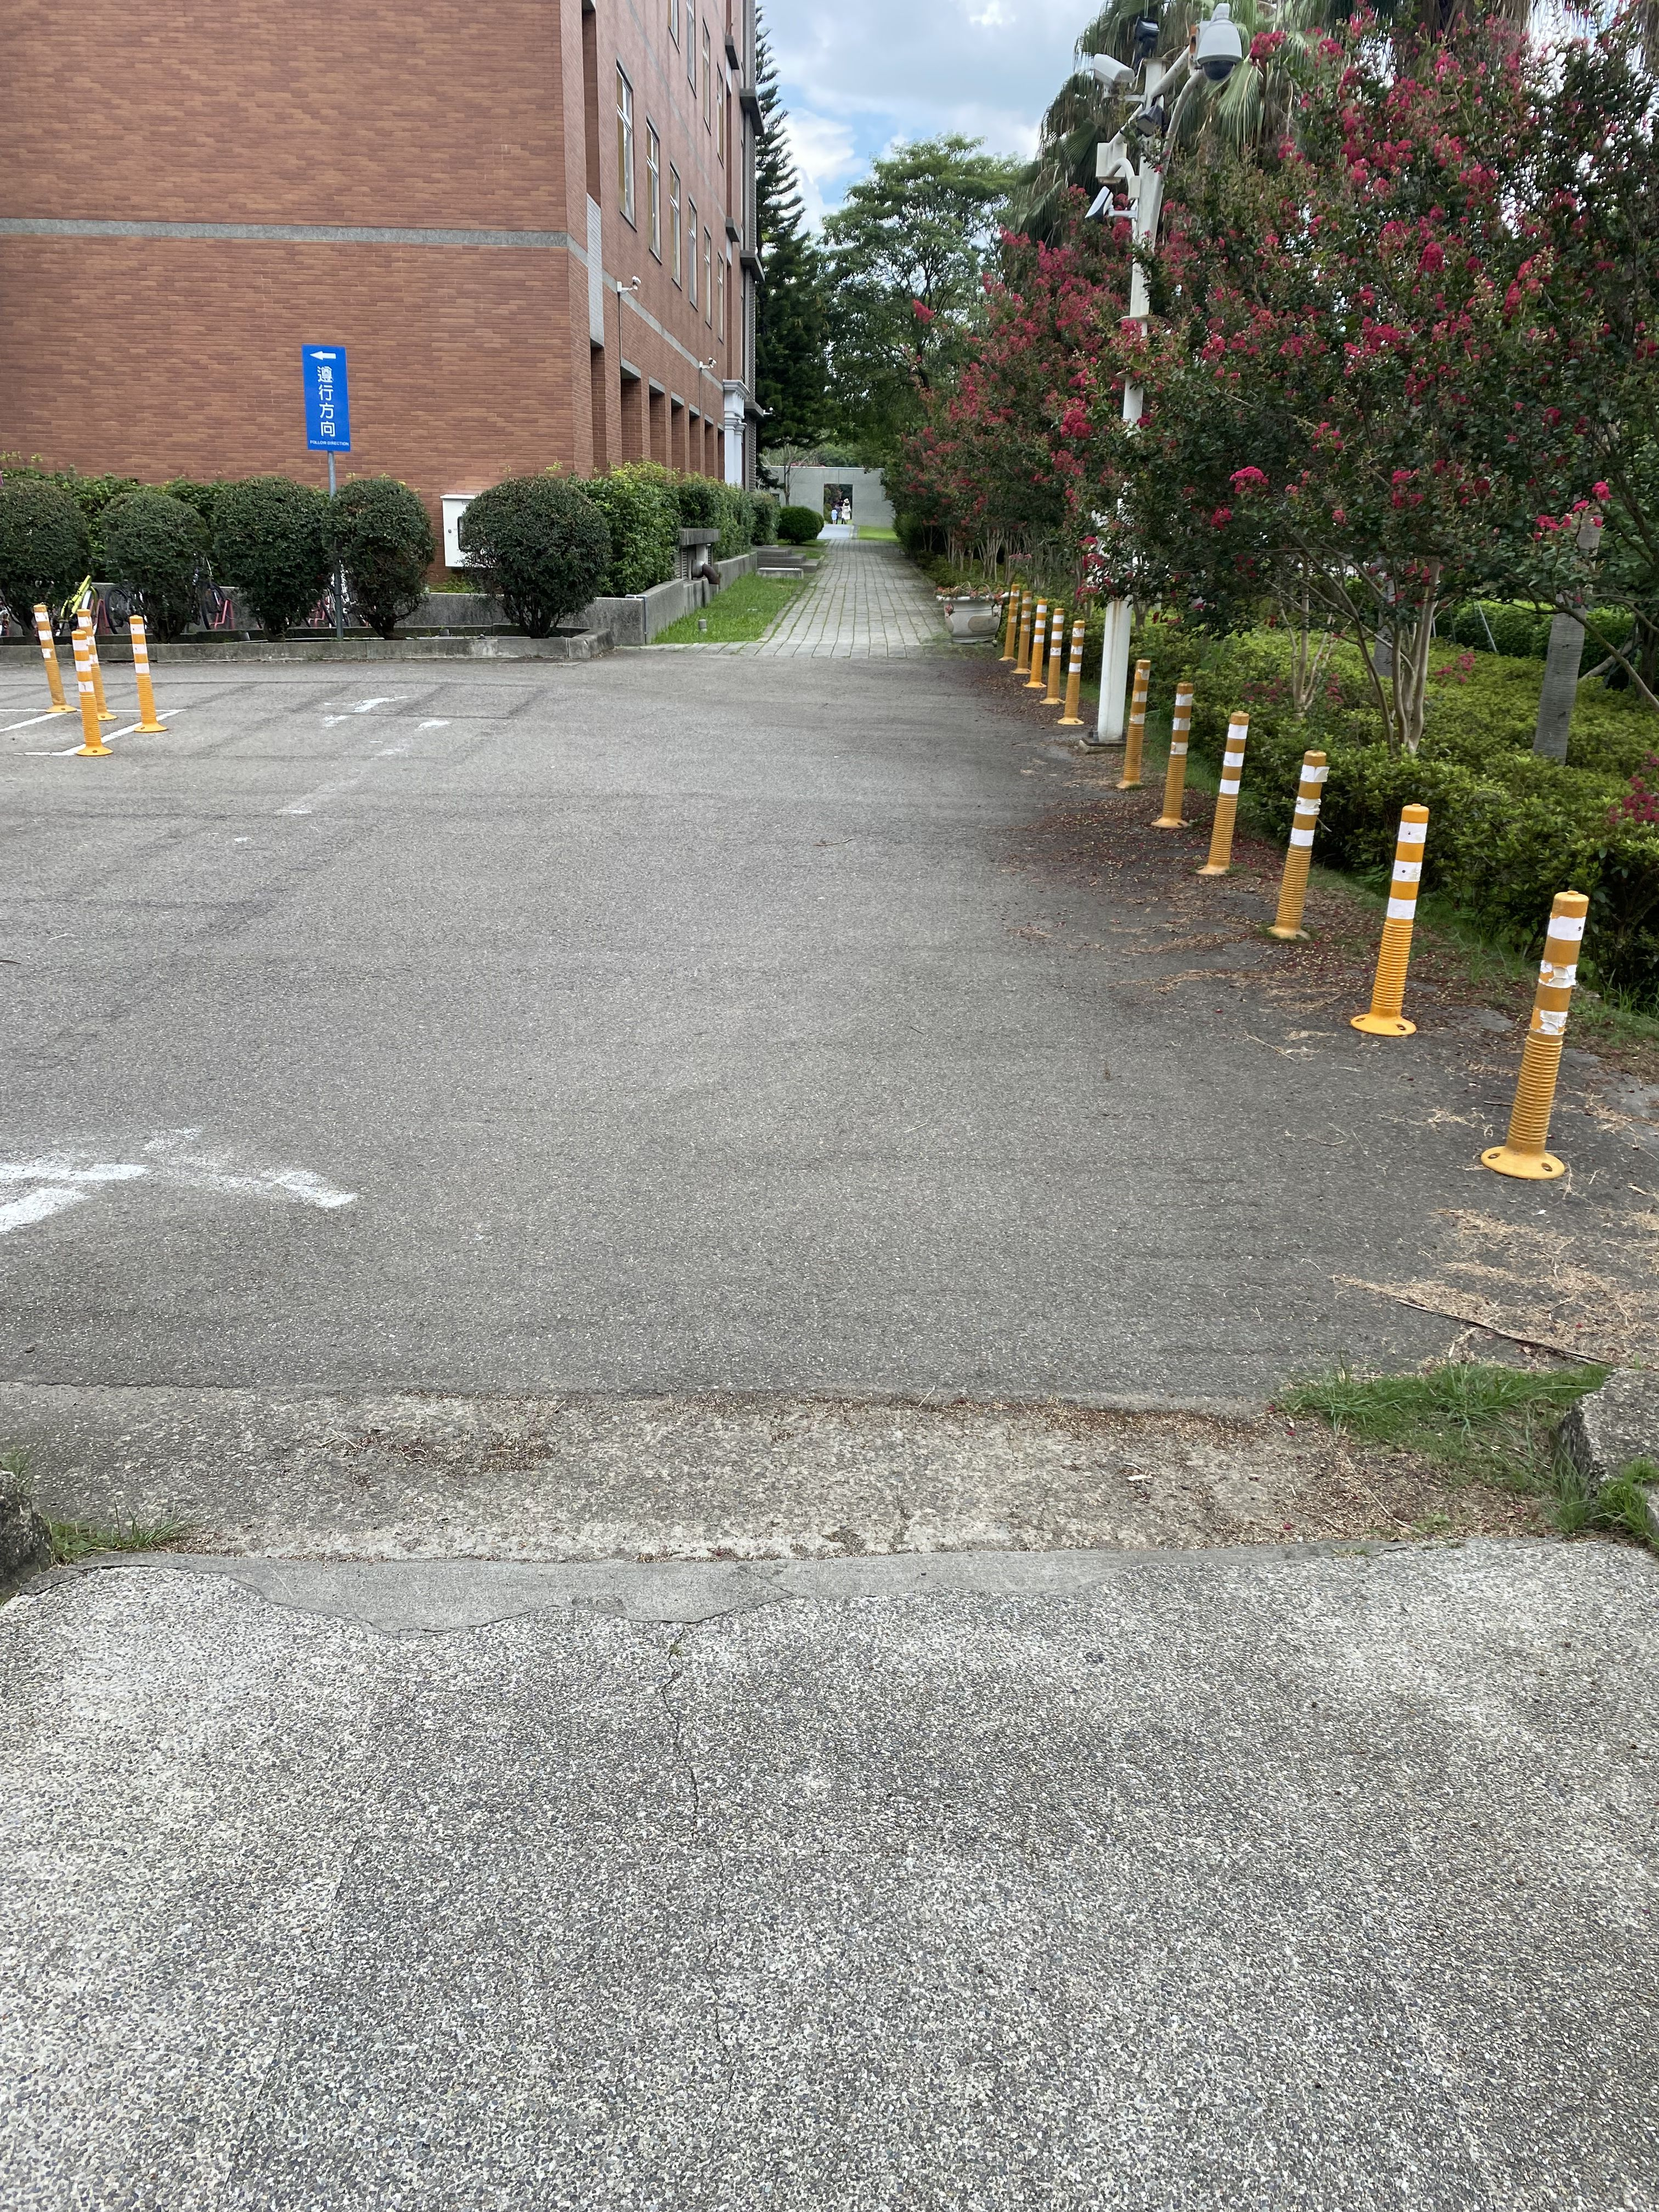sidewalk: (453, 486, 1654, 2200)
